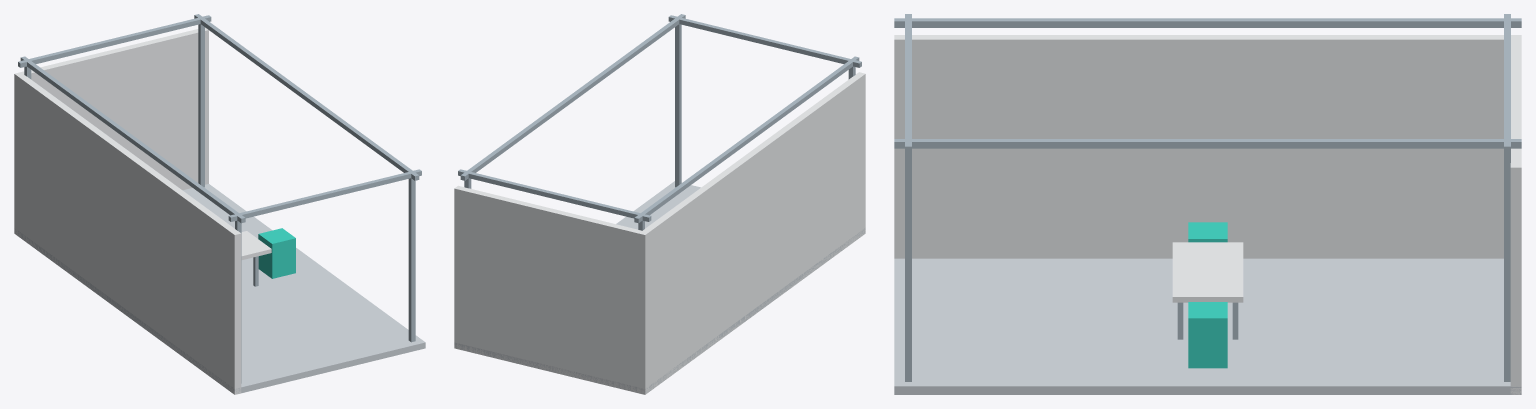
3 views of the same model, side by side, from view 1: azimuth 30°, elevation 25°; view 2: azimuth 150°, elevation 25°; view 3: azimuth 270°, elevation 25° (orthographic). The views are drawn at different scales.
Parts seen in each view (by area): view 1: Exhibition Booth Concept; view 2: Exhibition Booth Concept; view 3: Exhibition Booth Concept.
Part boxes in pixels (bbox=[...]): Exhibition Booth Concept: bbox=[14, 14, 425, 394]; Exhibition Booth Concept: bbox=[454, 14, 865, 394]; Exhibition Booth Concept: bbox=[894, 14, 1521, 394].
Bounding box in the file's own units: 4 × 3.49 × 8.
